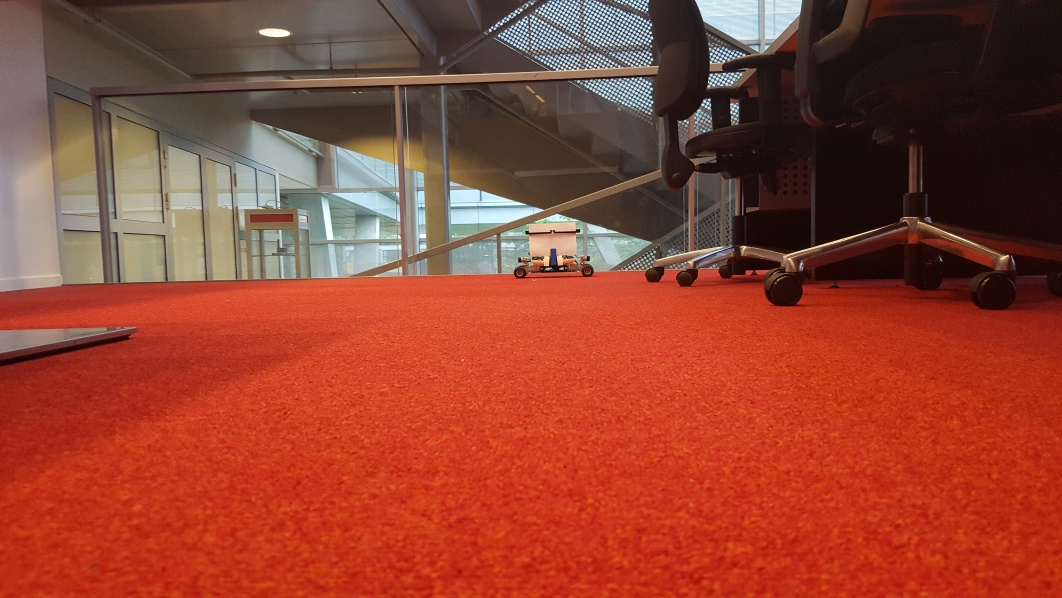car: (512, 223, 593, 279)
